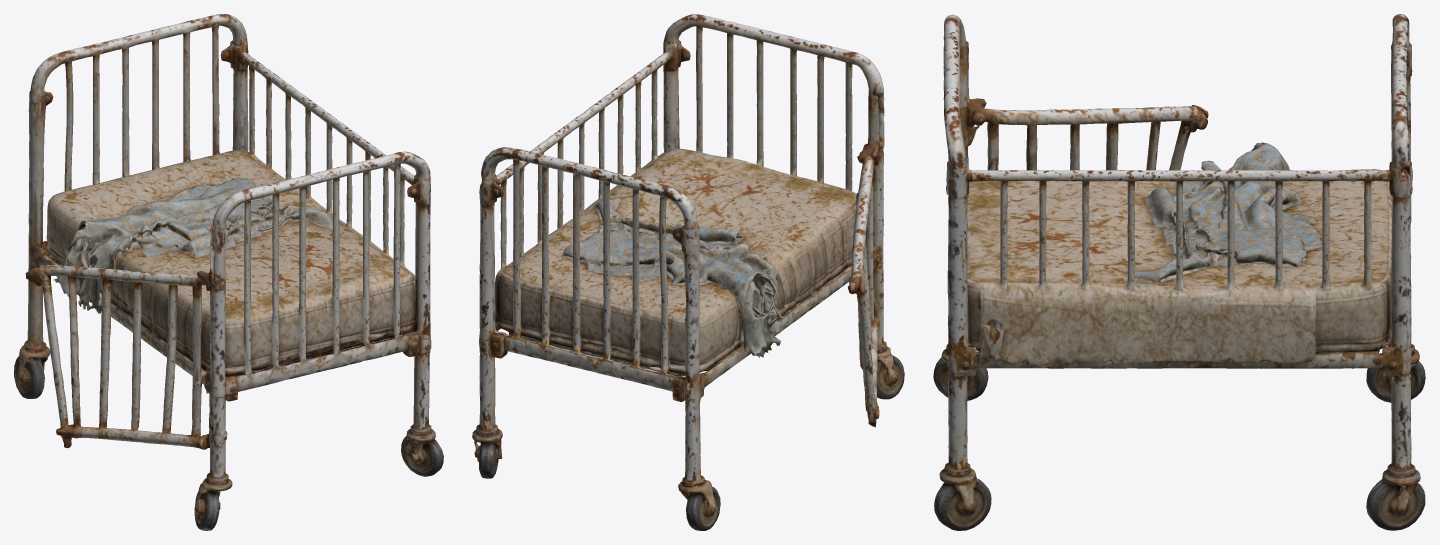
Rendered from Crib.fbx.
3 renders of one model, left to right at view 1: azimuth 30°, elevation 25°; view 2: azimuth 150°, elevation 25°; view 3: azimuth 270°, elevation 25°, orthographic. The views are drawn at different scales.
Parts seen in each view (by area): view 1: texture_mapping; view 2: texture_mapping; view 3: texture_mapping.
Boxes of the visible parts, <box> form: texture_mapping: <box>14,14,443,530</box>; texture_mapping: <box>472,14,904,530</box>; texture_mapping: <box>933,14,1425,530</box>.
Bounding box in the file's own units: 0.8786 × 1 × 0.9104.
Materials: 1 (1 with a texture image).
